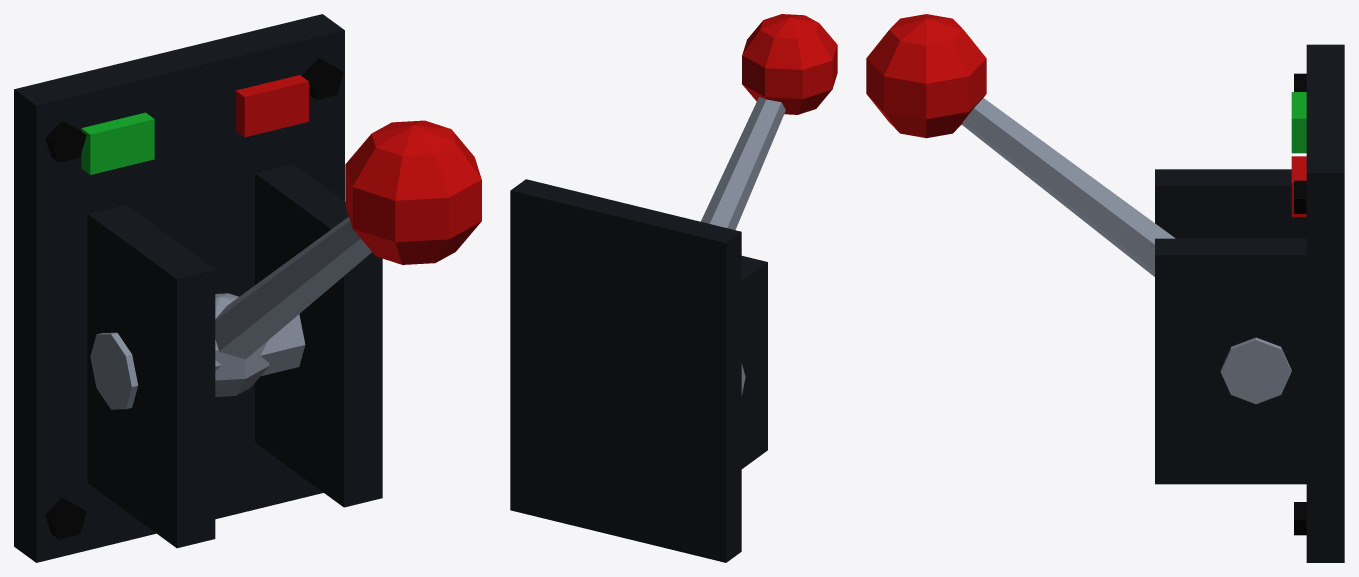
Rendered from SM_Lever.glb.
3 views of the same model, side by side, from view 1: azimuth 30°, elevation 25°; view 2: azimuth 150°, elevation 25°; view 3: azimuth 270°, elevation 25° (orthographic). The views are drawn at different scales.
Parts seen in each view (by area): view 1: Lever_Base, Lever_Arm; view 2: Lever_Base, Lever_Arm; view 3: Lever_Base, Lever_Arm.
Part boxes in pixels (left/top/right/bottom): Lever_Base: left=14, top=14, right=382, bottom=562; Lever_Arm: left=215, top=120, right=481, bottom=396; Lever_Base: left=510, top=179, right=767, bottom=562; Lever_Arm: left=701, top=14, right=837, bottom=230; Lever_Base: left=1155, top=44, right=1344, bottom=562; Lever_Arm: left=866, top=14, right=1175, bottom=276.
Size of the model in its own units: 0.24 by 0.4185 by 0.378.
